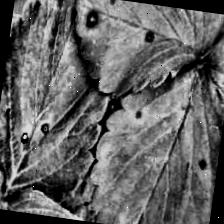Leaf Spot: (0, 0, 121, 209), (83, 46, 224, 224), (61, 0, 224, 111), (177, 12, 224, 224), (0, 182, 126, 224)
